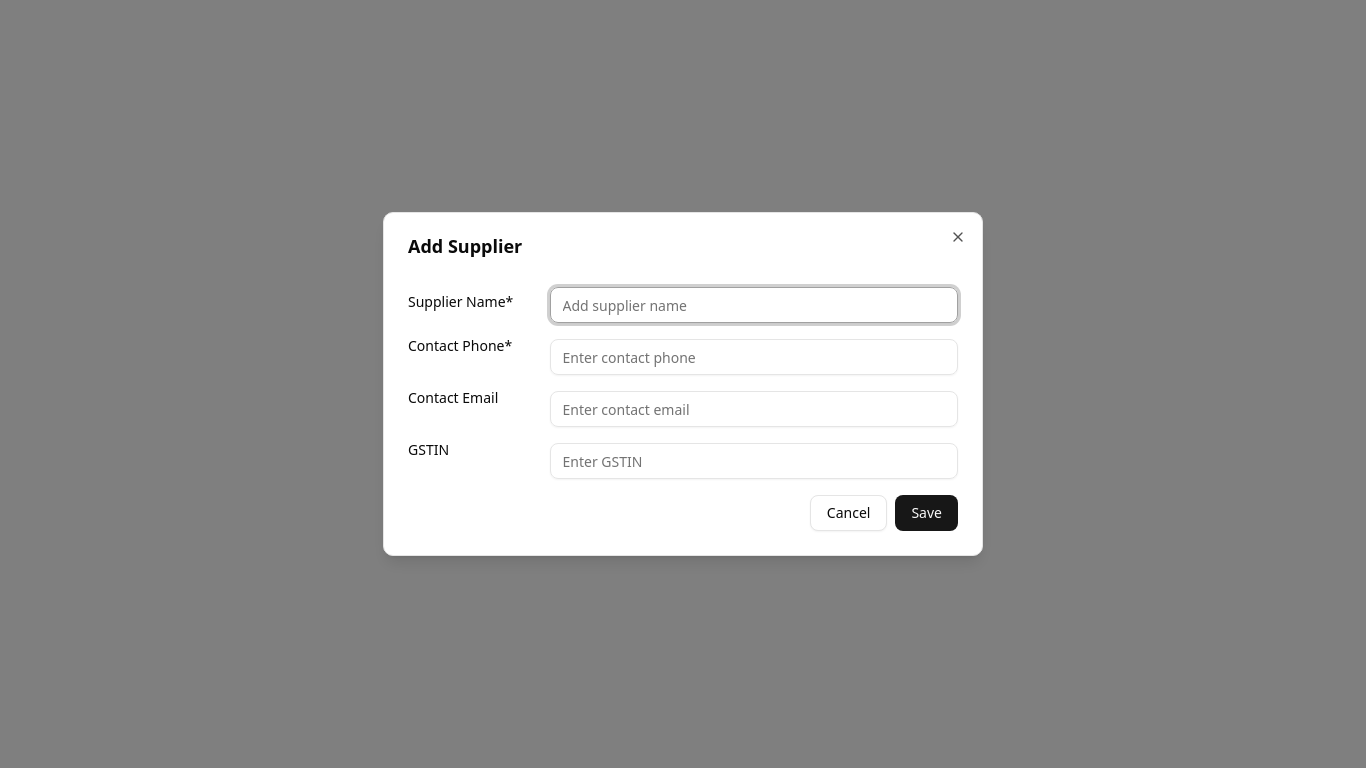
Test: AddSupplierDialog › shows a required error for an empty supplier name
This screenshot has width=1366, height=768.
Step 1. Click the button "Save" → (927, 513), box x1=895 y1=495 x2=958 y2=531
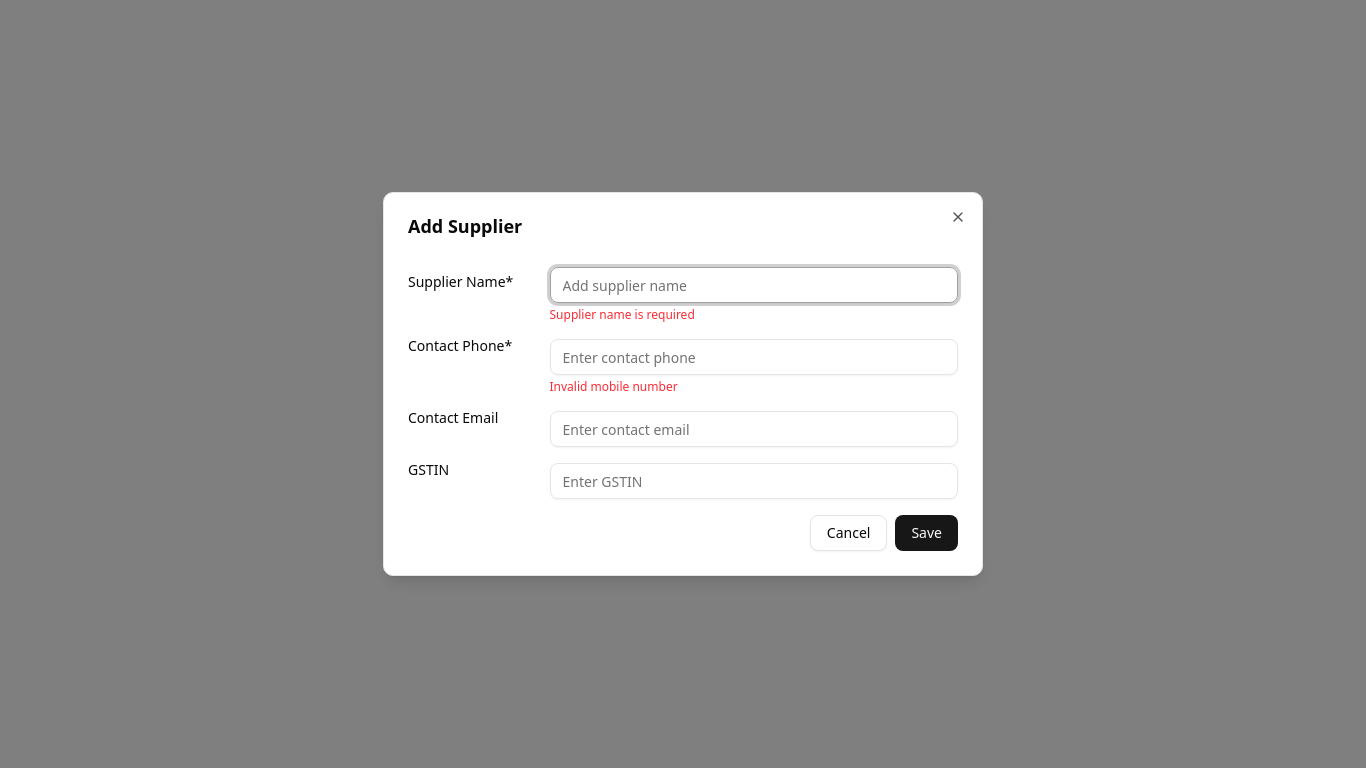
Now the text "Supplier name is required" is shown, box x1=550 y1=306 x2=695 y2=323
